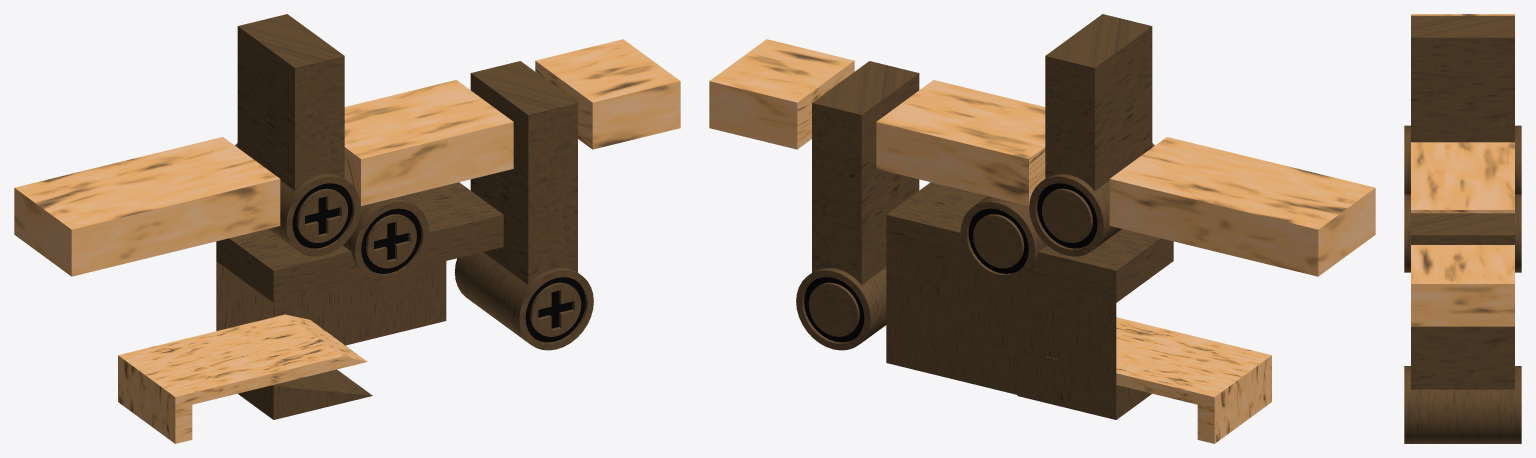
The model's file is level6.fbx.
3 views of the same model, side by side, from view 1: azimuth 30°, elevation 25°; view 2: azimuth 150°, elevation 25°; view 3: azimuth 270°, elevation 25° (orthographic). The views are drawn at different scales.
Parts seen in each view (by area): view 1: Cube.007, Cube.010, Cube.009, Cube.008, Cube.012, Pullable.004, Pullable.003, Pullable.005, Cube.011; view 2: Cube.007, Cube.010, Cube.009, Cube.008, Cube.012, Pullable.004, Pullable.003, Pullable.005, Cube.011; view 3: Cube.007, Cube.008, Cube.009, Pullable.004, Pullable.005, Pullable.003.
Part boxes in pixels (x1,y1,x2,y2): Cube.007: (14,39,680,276); Cube.010: (216,182,503,345); Cube.009: (470,61,577,284); Cube.008: (237,14,344,190); Cube.012: (118,314,367,443); Pullable.004: (454,252,593,350); Pullable.003: (235,143,360,256); Pullable.005: (343,196,429,281); Cube.011: (238,369,372,419); Cube.007: (709,39,1375,276); Cube.010: (886,182,1173,395); Cube.009: (812,61,919,284); Cube.008: (1045,14,1152,190); Cube.012: (1046,317,1271,443); Pullable.004: (796,267,886,350); Pullable.003: (1029,143,1154,256); Pullable.005: (960,196,1046,281); Cube.011: (1017,385,1151,419); Cube.007: (1411,14,1514,326); Cube.008: (1411,15,1514,142); Cube.009: (1411,213,1514,389); Pullable.004: (1404,366,1521,443); Pullable.005: (1404,194,1521,272); Pullable.003: (1404,125,1521,194).
Size of the model in its own units: 2451 by 450 by 1334.
